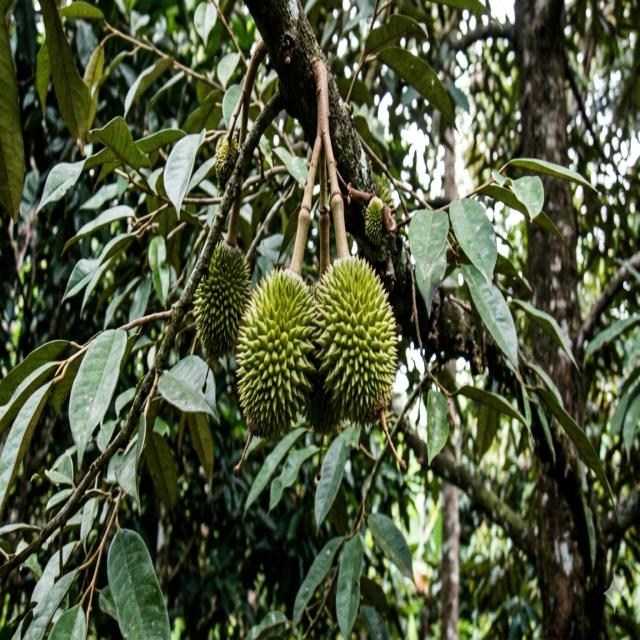immature: (308, 253, 400, 433), (235, 263, 320, 442), (192, 238, 252, 366), (215, 132, 240, 194), (364, 195, 386, 244), (375, 172, 394, 208)
